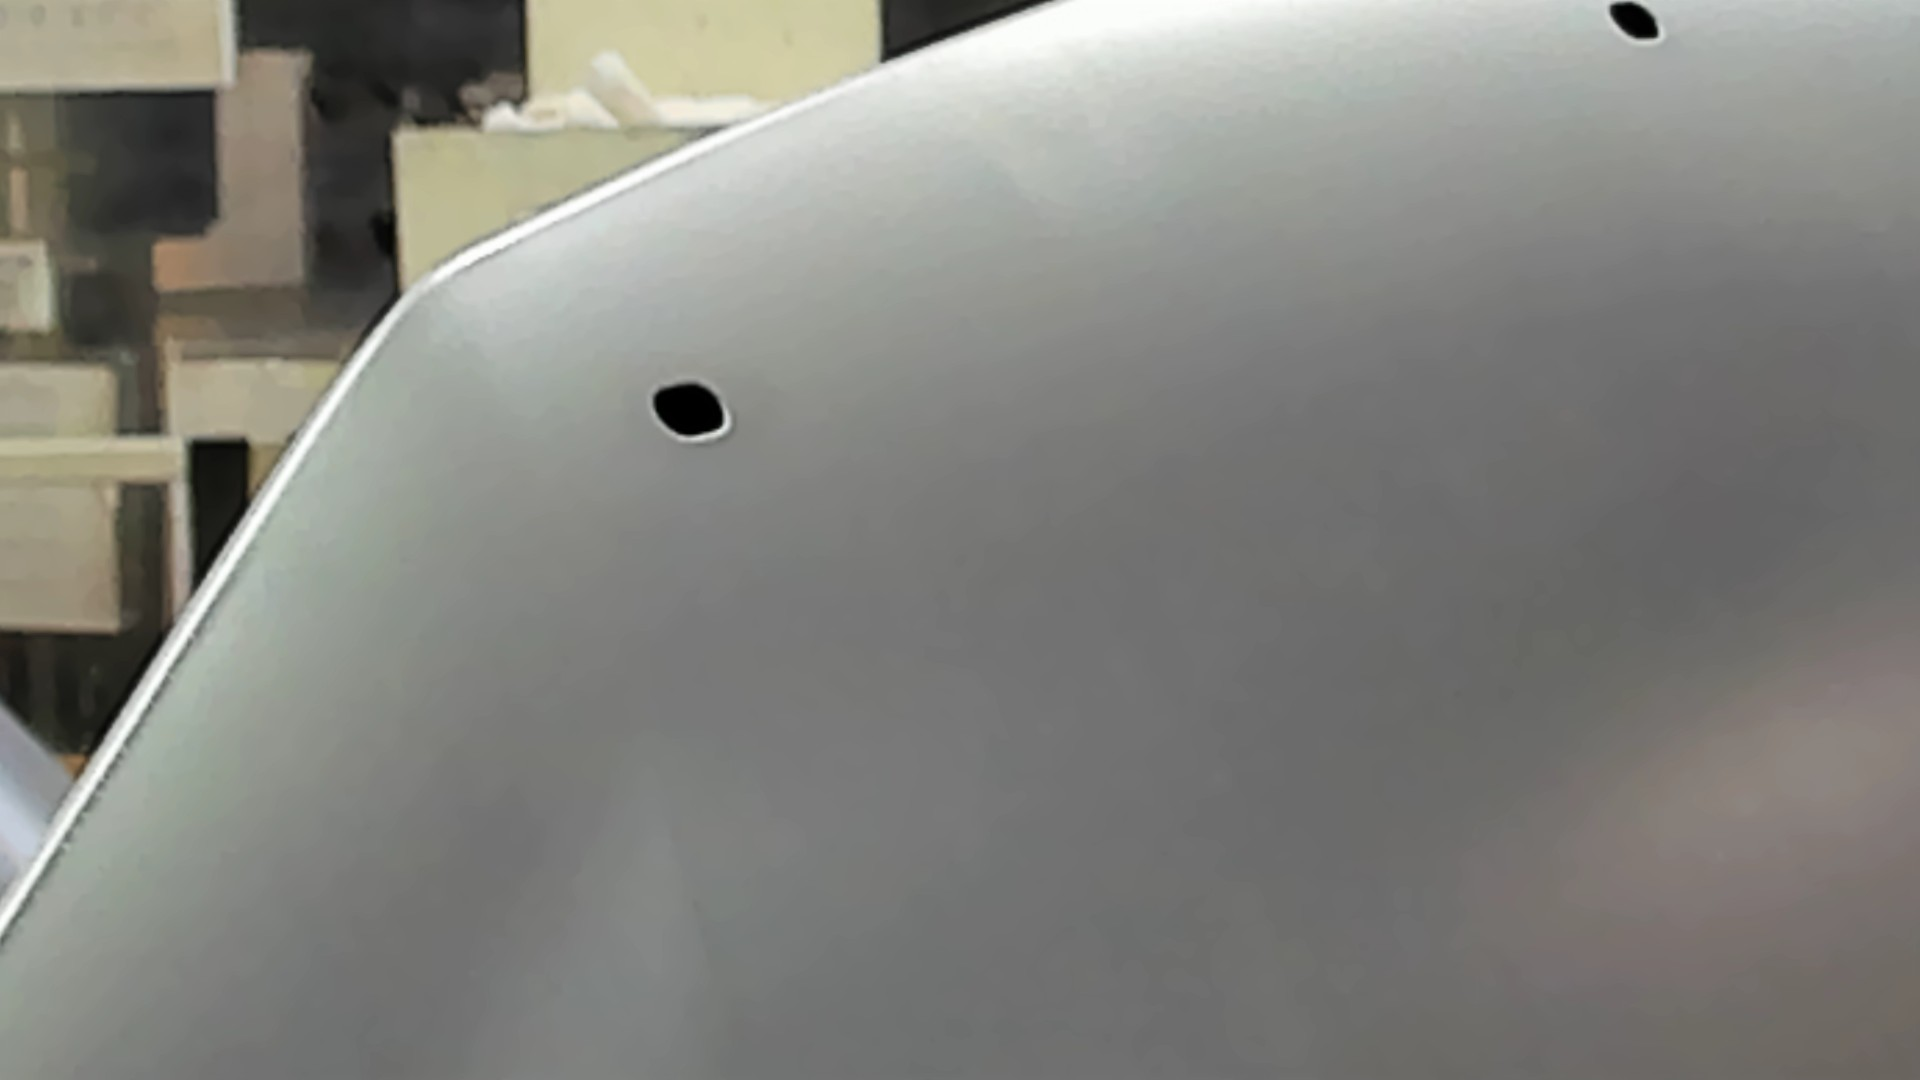amorfo: (646, 378, 738, 444), (1600, 1, 1668, 49)
